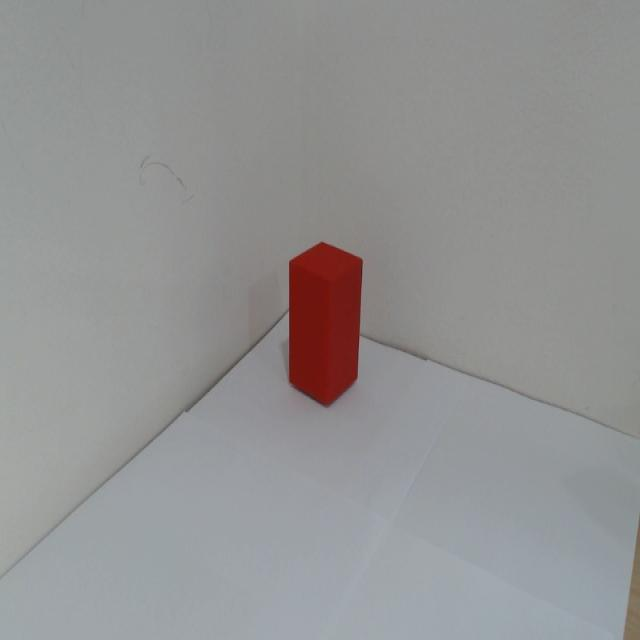cube: (282, 235, 366, 415)
